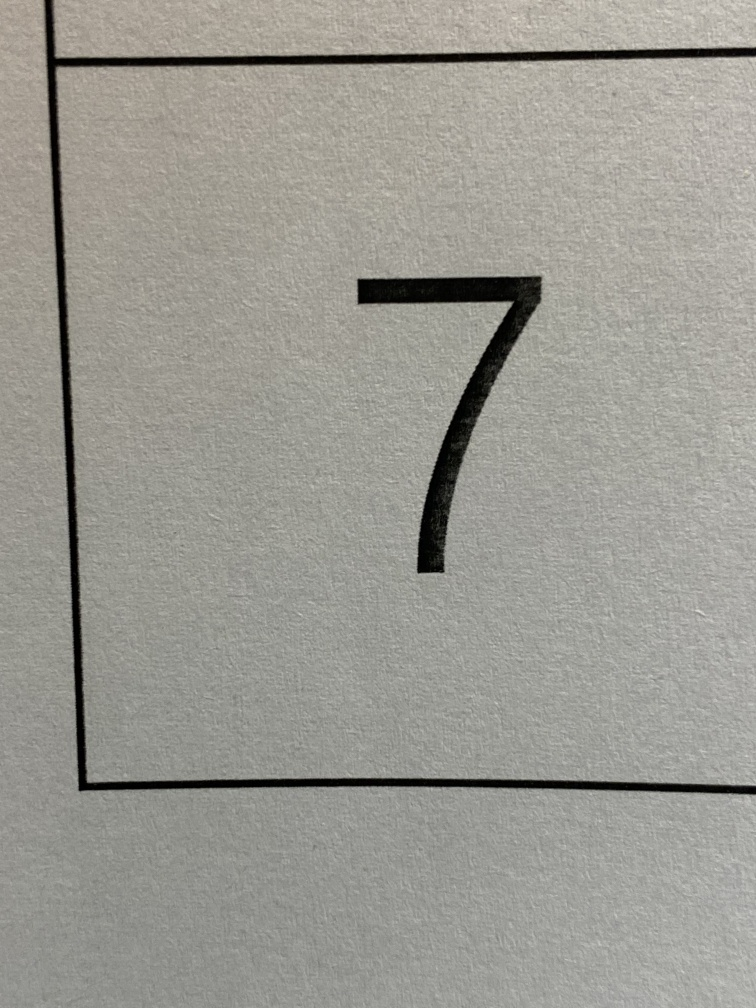seven: (286, 214, 610, 632)
